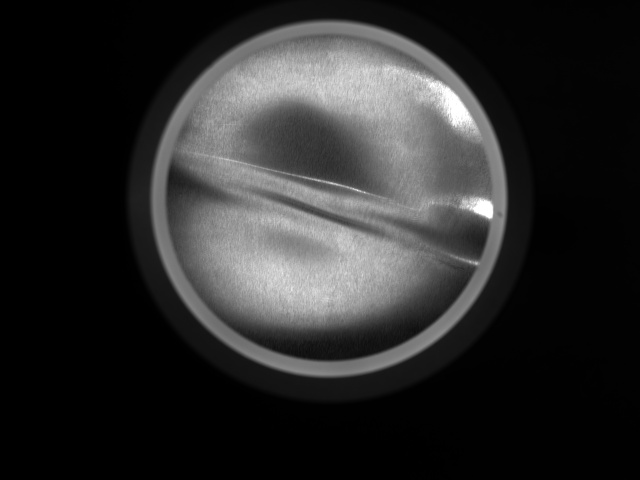zhe_zhou: (197, 78, 452, 334)
